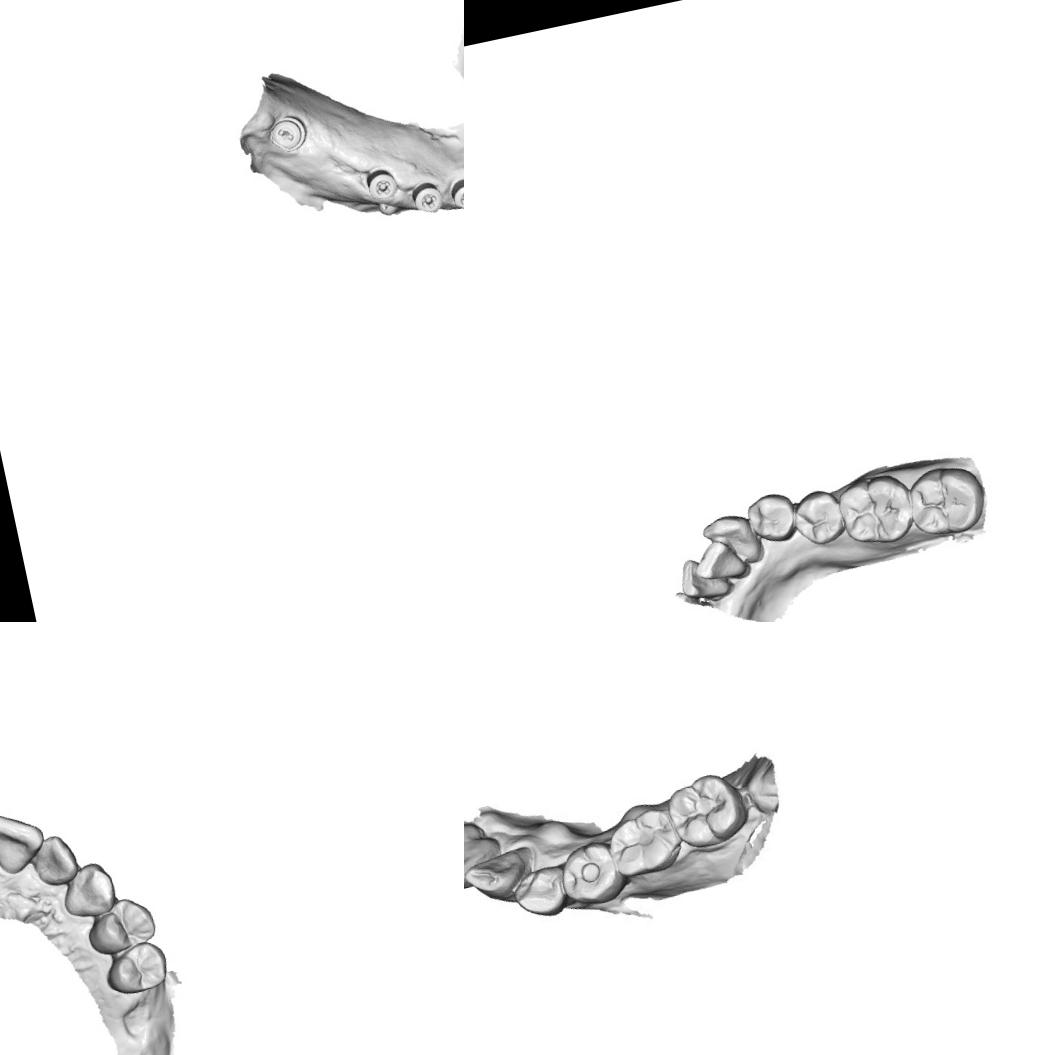canine: (464, 840, 545, 914), (698, 507, 765, 573), (56, 858, 120, 924)
implant_minus: (264, 109, 313, 159)
implant_plus: (408, 176, 449, 218), (363, 165, 402, 205), (447, 173, 464, 217)
incisor: (0, 803, 50, 882), (686, 532, 750, 588), (674, 550, 736, 607), (27, 831, 83, 892), (464, 833, 504, 891)
molar: (902, 457, 993, 543), (833, 467, 918, 552), (667, 770, 752, 851), (604, 802, 685, 878)
premolar: (80, 892, 161, 960), (99, 936, 172, 1000), (562, 839, 625, 907), (788, 484, 848, 552), (512, 860, 576, 916), (742, 488, 800, 548)
